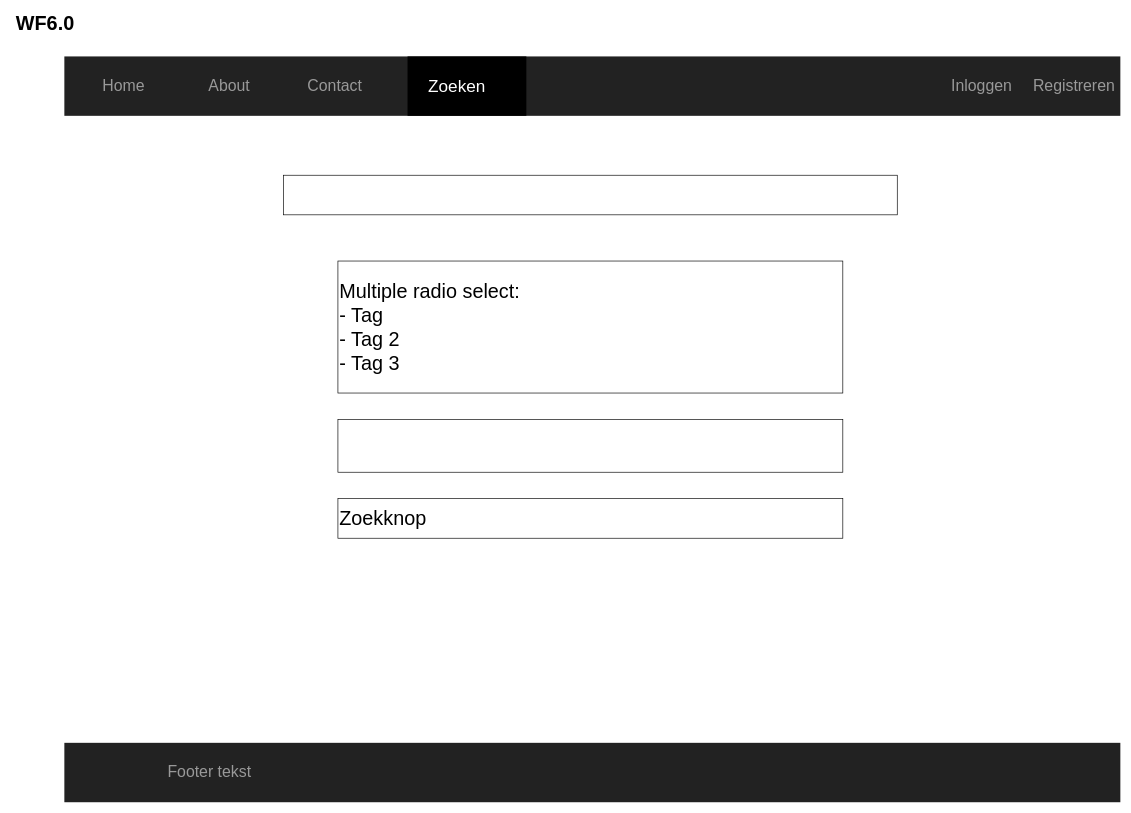
This 1131x813 diagram has some shape labels left out. The shapes that lost their labels are listed below. From the top down, each one's box as (x1, y1, x2, y2) in pixels, then its label:
(283, 175, 897, 215): Titel zoekpagina
(337, 419, 843, 472): Multiple radio select: - Auteur
